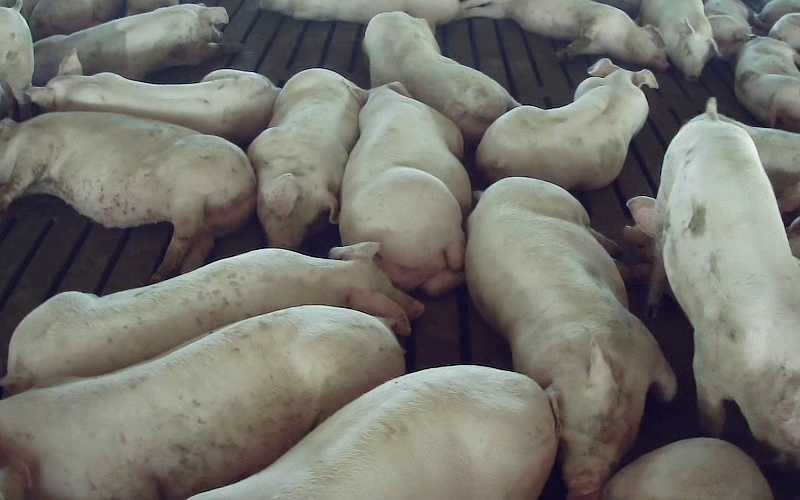pig: (0, 306, 402, 499), (0, 243, 423, 393), (648, 98, 799, 466), (192, 366, 555, 499), (339, 83, 470, 295), (476, 59, 656, 189), (363, 11, 519, 139), (248, 70, 360, 248), (461, 0, 667, 68), (639, 0, 717, 80), (735, 37, 799, 131), (260, 0, 459, 25)
